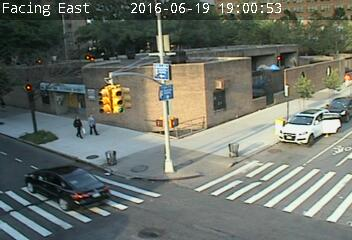neg: (206, 79, 229, 110), (272, 82, 292, 109), (299, 63, 319, 89)
pos: (84, 112, 104, 138), (67, 113, 86, 139)
